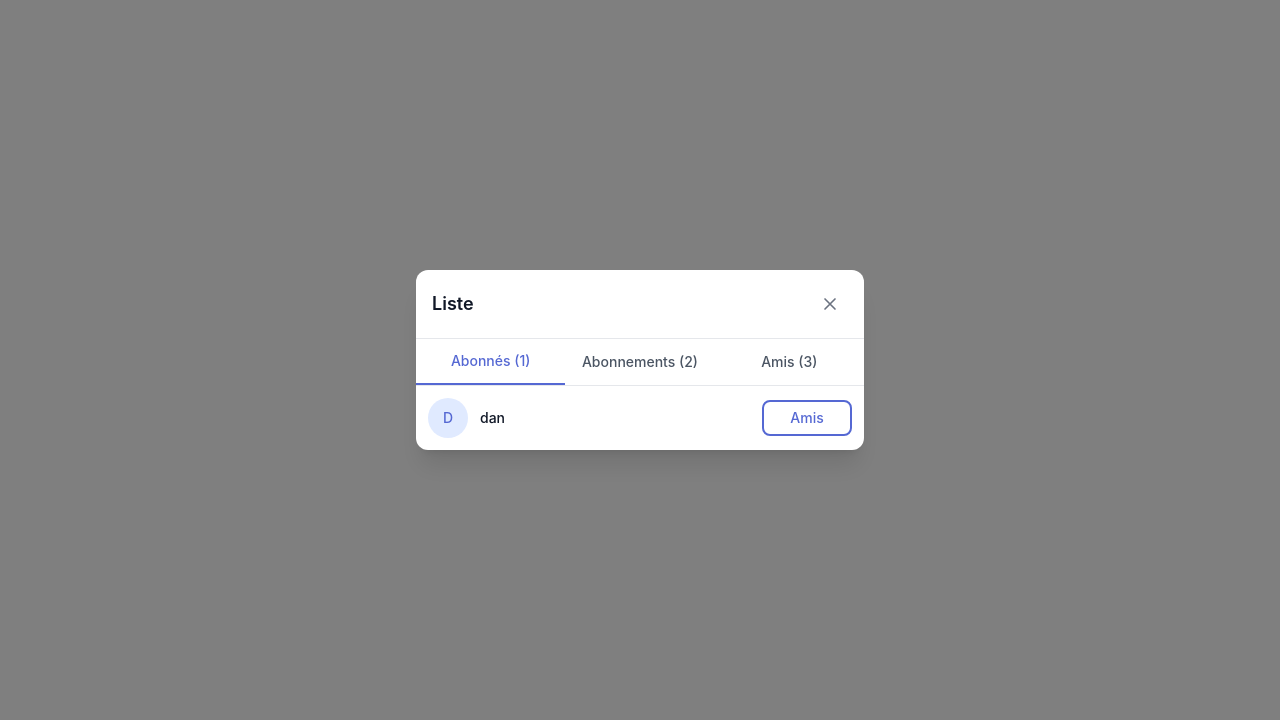
Scenario: ProfileListsModal › shows the friend-specific confirmation message for a friend
This screenshot has width=1280, height=720.
Expected: the text "dan" is shown, 480,408 -> 505,428
Step 1. Click the button "Amis" → (807, 418), box 762,400 -> 852,436
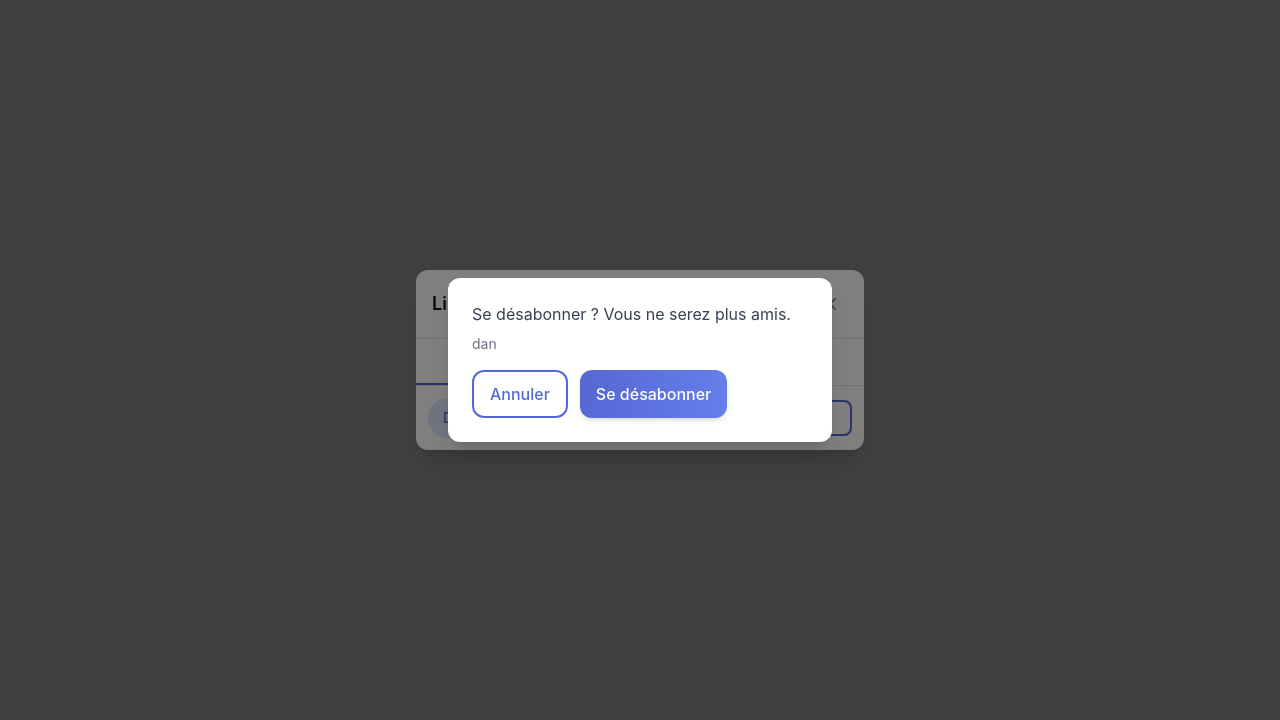
Expected: the text "Se désabonner ? Vous ne serez plus amis." is shown, 472,302 -> 808,326
